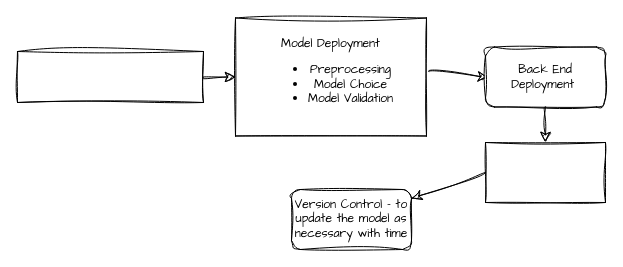
Some shapes in this 623 by 267 pixel diagram are drawn without their labels. The centre of each missing label's shape, as x and y in pixels:
Front End Deployment for USer: point 545,172
Problem Statement Identification + Deciding on Objectives: point 110,76
